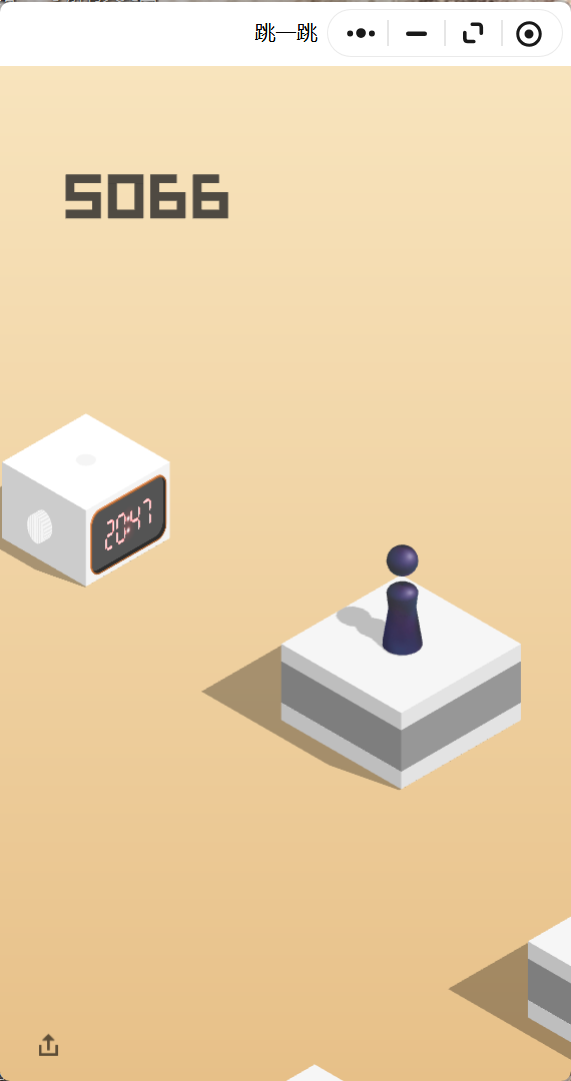piece: (387, 545, 418, 653)
target: (3, 413, 170, 511)
